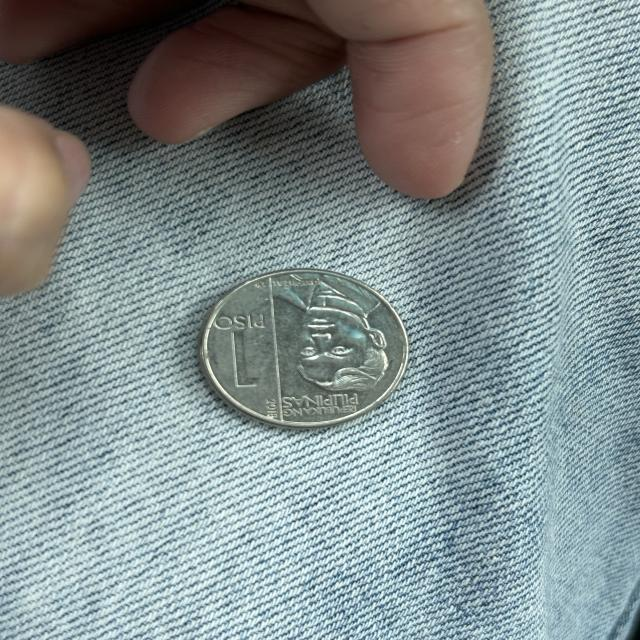1_New_Front: (217, 310, 275, 395)
